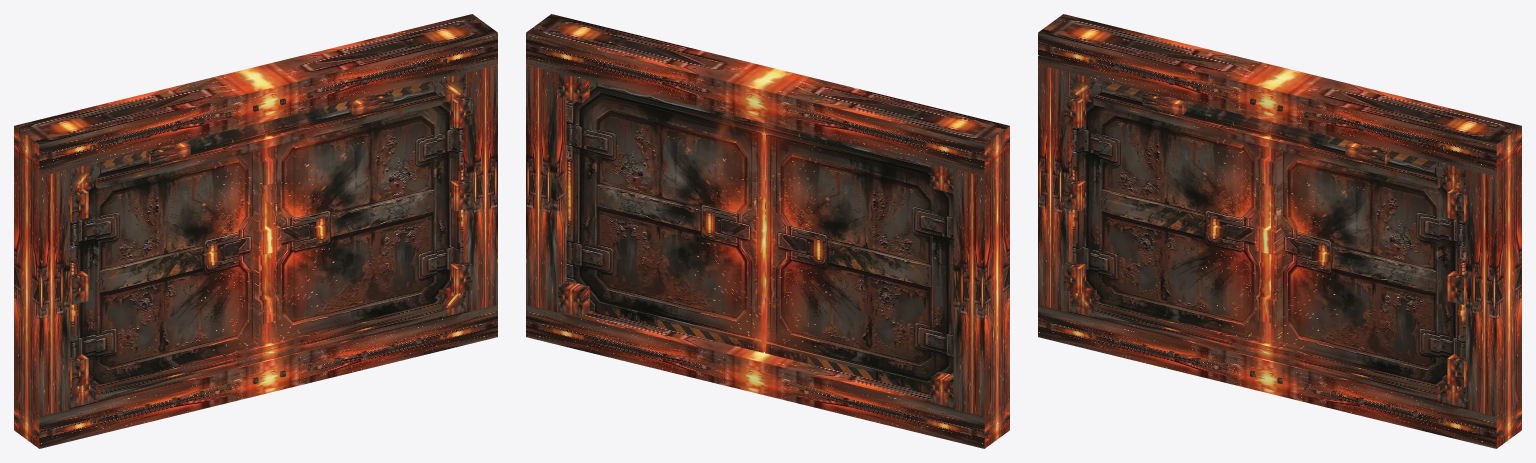
The model's file is hangar_kapi_demirhan.glb.
3 views of the same model, side by side, from view 1: azimuth 30°, elevation 25°; view 2: azimuth 150°, elevation 25°; view 3: azimuth 330°, elevation 25° (orthographic).
Parts seen in each view (by area): view 1: FRAME, DOOR_R, DOOR_L; view 2: FRAME, DOOR_R, DOOR_L; view 3: FRAME, DOOR_L, DOOR_R.
Part boxes in pixels (<box>): FRAME: <box>14,14,497,448</box>; DOOR_R: <box>264,79,463,343</box>; DOOR_L: <box>70,122,270,398</box>; FRAME: <box>526,14,1009,448</box>; DOOR_R: <box>566,80,764,352</box>; DOOR_L: <box>765,123,953,393</box>; FRAME: <box>1038,14,1521,448</box>; DOOR_L: <box>1072,79,1271,343</box>; DOOR_R: <box>1265,122,1465,398</box>.
Size of the model in its own units: 10.4 by 6.6 by 1.14.
Materials: 1 (1 with a texture image).
